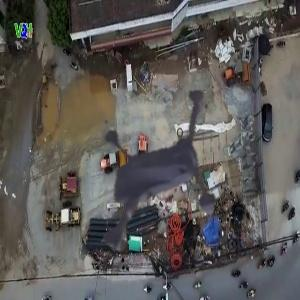drone: (54, 100, 253, 299)
